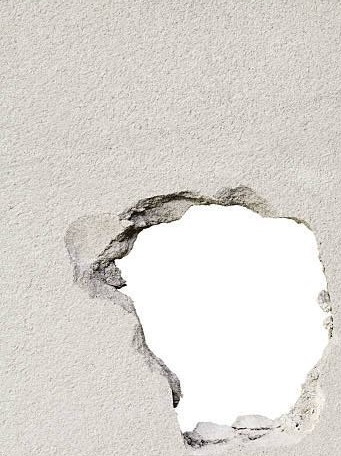Spalling: (88, 183, 335, 451)
